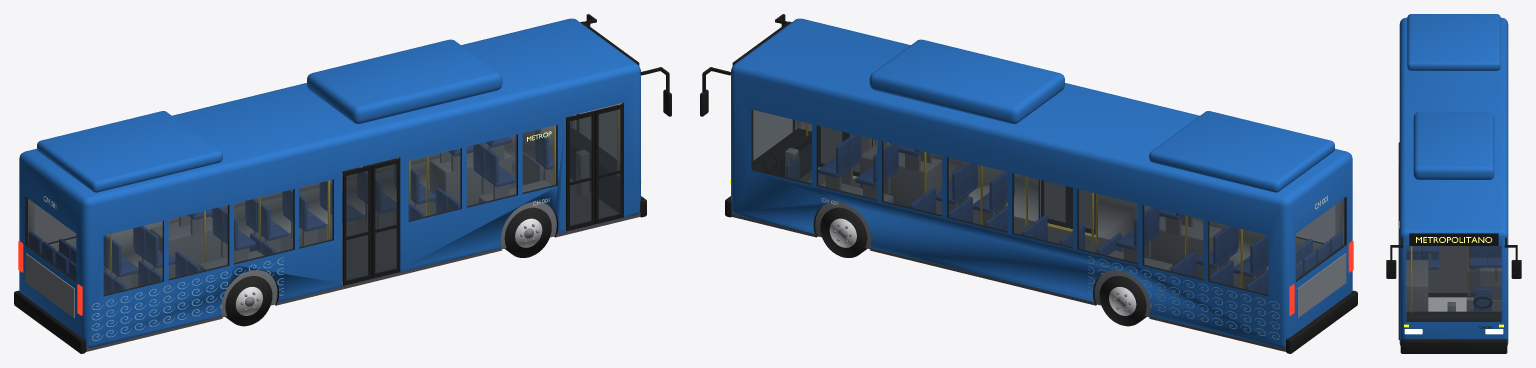
Rendered from autobus_metropolitano.glb.
The picture shows the model from 3 angles, left to right: view 1: azimuth 30°, elevation 25°; view 2: azimuth 150°, elevation 25°; view 3: azimuth 270°, elevation 25°; orthographic projection. The views are drawn at different scales.
Visible parts, largest first — view 1: Carroceria, AireAcondicionado, CarenadoTecho, Piso, Vidrio_D1, Vidrio_D0, Vidrio_D2, Vidrio_D4, Vidrio_D5, VidrioTrasero, PuertaDel_A, PuertaDel_B (+22 smaller); view 2: Carroceria, AireAcondicionado, CarenadoTecho, Vidrio_I1, Vidrio_I0, Vidrio_I6, Vidrio_I5, Vidrio_I4, Vidrio_I3, Vidrio_I2, Vidrio_I7, Piso (+19 smaller); view 3: Carroceria, Parabrisas, AireAcondicionado, CarenadoTecho, Piso, Defensa, CajaRueda_3.55_-1, LetreroMarco, Tablero, Mampara, CajaRueda_3.55_1, Conductor_respaldo (+12 smaller).
Boxes of the visible parts, bbox=[...] form: Carroceria: bbox=[19, 18, 640, 347]; AireAcondicionado: bbox=[307, 39, 502, 123]; CarenadoTecho: bbox=[37, 111, 222, 192]; Piso: bbox=[86, 171, 640, 351]; Vidrio_D1: bbox=[168, 205, 228, 279]; Vidrio_D0: bbox=[103, 221, 163, 295]; Vidrio_D2: bbox=[234, 189, 293, 263]; Vidrio_D4: bbox=[408, 148, 461, 220]; Vidrio_D5: bbox=[466, 135, 516, 206]; VidrioTrasero: bbox=[26, 197, 76, 280]; PuertaDel_A: bbox=[566, 116, 591, 230]; PuertaDel_B: bbox=[598, 109, 620, 219]; Carroceria: bbox=[731, 18, 1352, 347]; AireAcondicionado: bbox=[869, 39, 1064, 123]; CarenadoTecho: bbox=[1149, 111, 1334, 192]; Vidrio_I1: bbox=[1143, 205, 1203, 279]; Vidrio_I0: bbox=[1208, 221, 1268, 295]; Vidrio_I6: bbox=[817, 126, 877, 200]; Vidrio_I5: bbox=[882, 141, 942, 215]; Vidrio_I4: bbox=[948, 157, 1007, 231]; Vidrio_I3: bbox=[1013, 173, 1072, 247]; Vidrio_I2: bbox=[1078, 189, 1137, 263]; Vidrio_I7: bbox=[752, 109, 811, 183]; Piso: bbox=[731, 171, 1285, 351]; Carroceria: bbox=[1399, 17, 1508, 345]; Parabrisas: bbox=[1406, 246, 1501, 321]; AireAcondicionado: bbox=[1413, 112, 1494, 179]; CarenadoTecho: bbox=[1407, 14, 1500, 70]; Piso: bbox=[1420, 246, 1487, 297]; Defensa: bbox=[1400, 339, 1507, 353]; CajaRueda_3.55_-1: bbox=[1406, 260, 1428, 311]; LetreroMarco: bbox=[1409, 233, 1498, 245]; Tablero: bbox=[1406, 311, 1501, 320]; Mampara: bbox=[1467, 271, 1501, 299]; CajaRueda_3.55_1: bbox=[1479, 261, 1501, 299]; Conductor_respaldo: bbox=[1474, 288, 1491, 310].
Size of the model in its own units: 12.51 by 3.74 by 3.19.
Materials: 19 (1 with a texture image).
